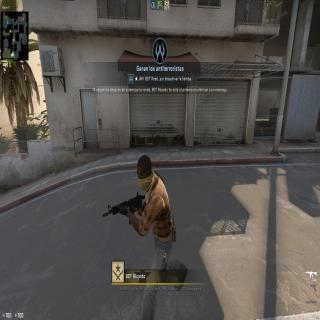T-Head: (135, 152, 155, 191)
